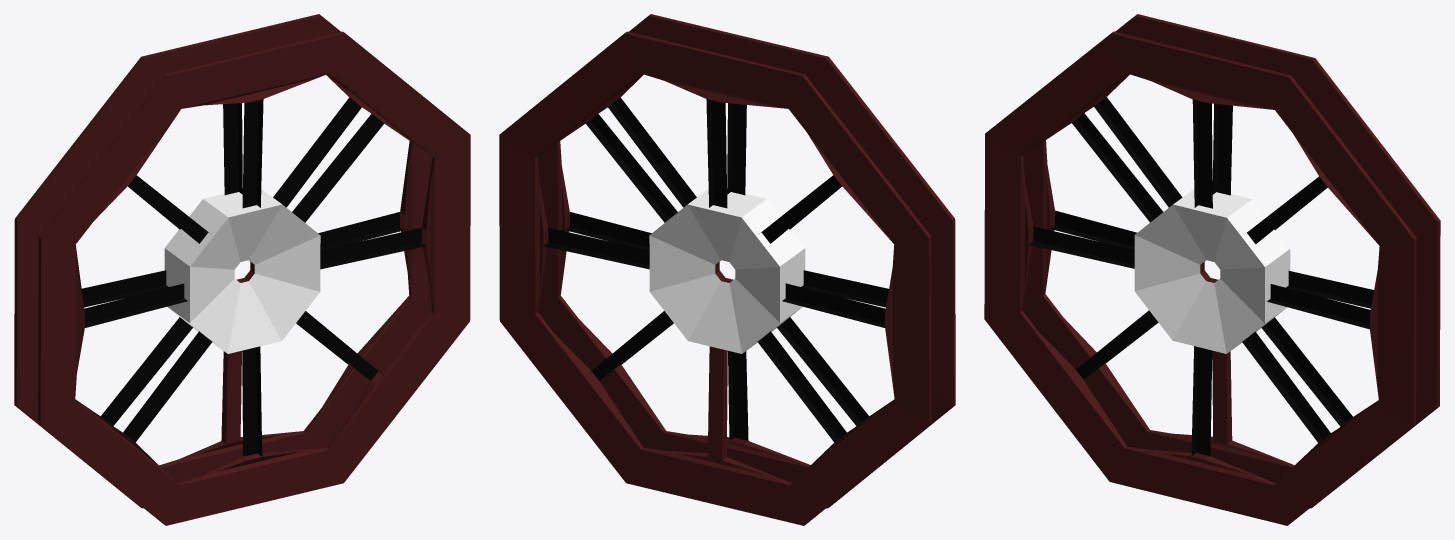
File: Wheel_ferris center.fbx
3 renders of one model, left to right at view 1: azimuth 30°, elevation 25°; view 2: azimuth 150°, elevation 25°; view 3: azimuth 330°, elevation 25°, orthographic.
Visible parts, largest first — view 1: Cylinder; view 2: Cylinder; view 3: Cylinder.
Part boxes in pixels (x1,y1,x2,y2): Cylinder: (14,14,470,525); Cylinder: (499,14,955,525); Cylinder: (984,14,1440,525).
Bounding box in the file's own units: 980 × 980 × 108.
